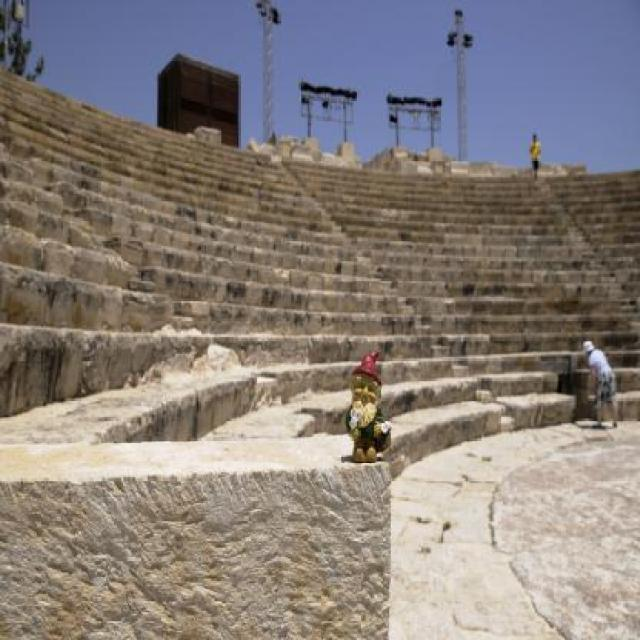Person: (581, 340, 619, 426), (529, 133, 542, 182)
